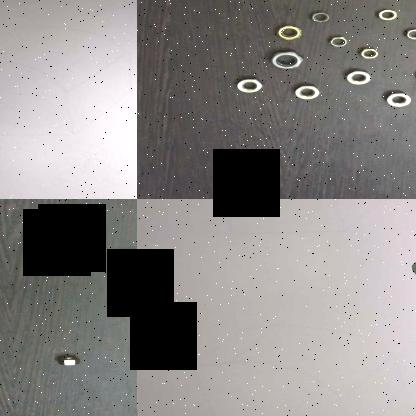NUTS: (266, 49, 306, 71), (273, 22, 310, 40), (290, 82, 325, 100), (111, 246, 137, 270), (234, 75, 266, 94), (384, 91, 416, 109), (346, 68, 376, 86), (51, 352, 85, 366), (374, 7, 400, 21), (356, 46, 384, 58), (401, 28, 416, 40)
